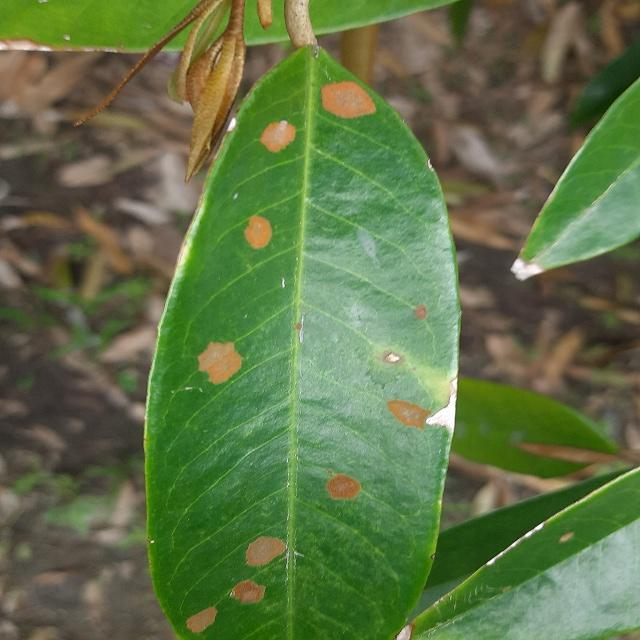Algal Leaf Spot: (137, 39, 453, 640)
